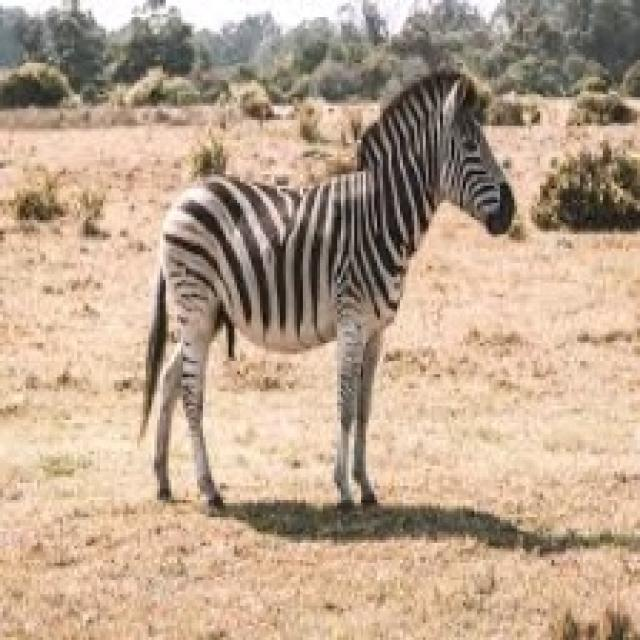bear: (110, 59, 522, 528)
